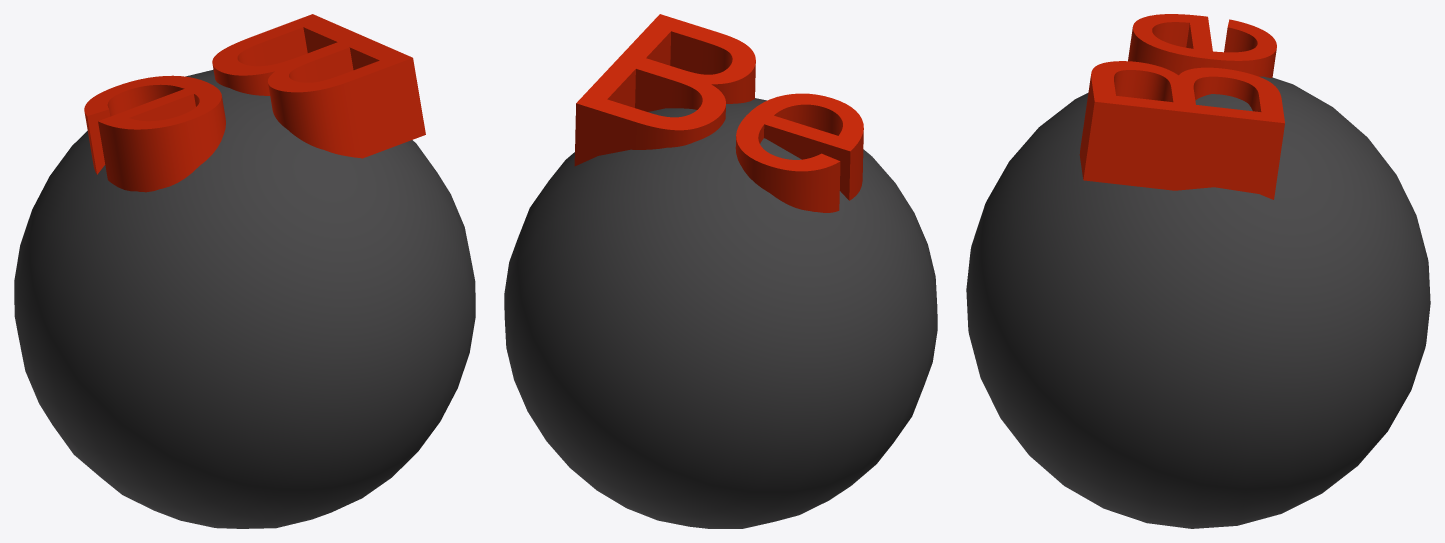
3 renders of one model, left to right at view 1: azimuth 30°, elevation 25°; view 2: azimuth 150°, elevation 25°; view 3: azimuth 270°, elevation 25°, orthographic. The views are drawn at different scales.
Visible parts, largest first — view 1: Be; view 2: Be; view 3: Be.
Part boxes in pixels (x1,y1,x2,y2): Be: [14, 14, 475, 528]; Be: [504, 14, 937, 528]; Be: [966, 14, 1430, 528].
Size of the model in its own units: 38.61 by 42.44 by 38.66.
